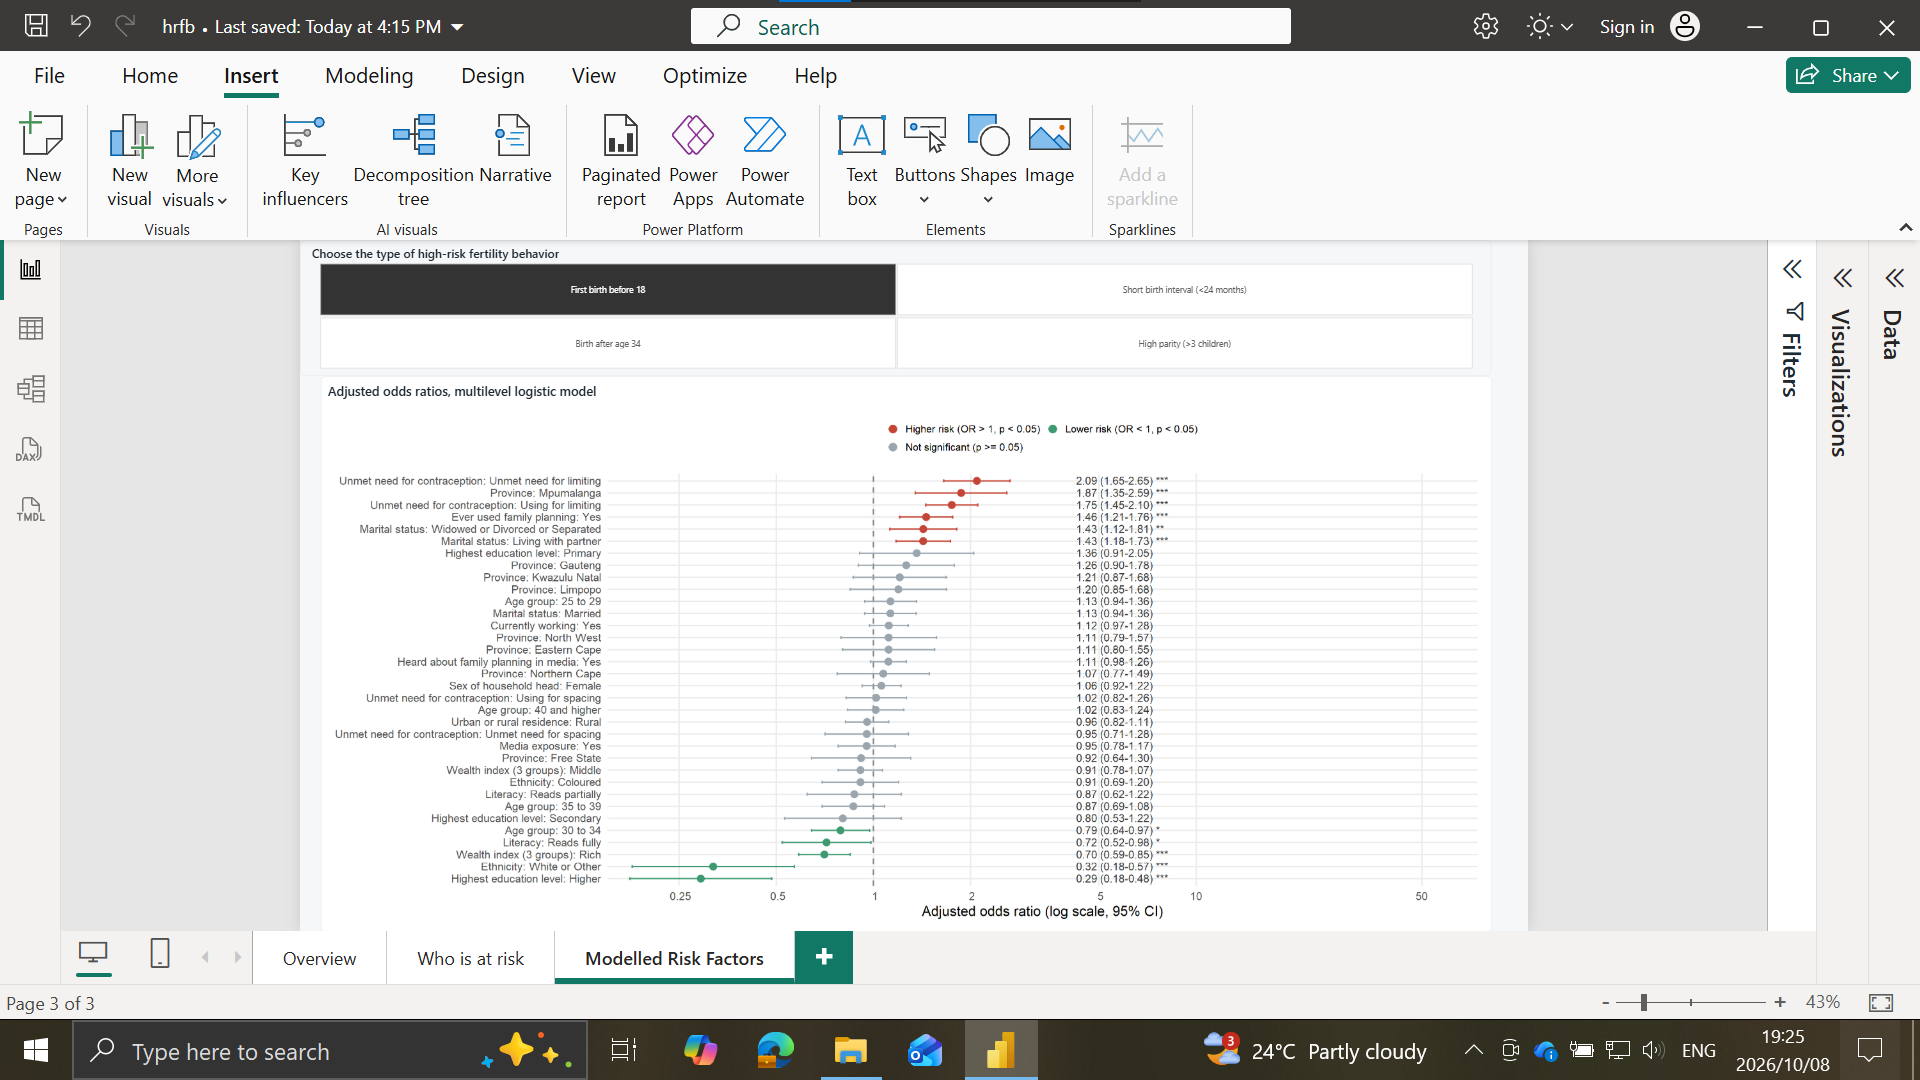

The page's visual inventory and layout, read from the dashboard file:
{"tool":"powerbi","page":{"name":"Modelled Risk Factors","canvas":[1920,1080],"ordinal":2},"visuals":[{"type":"slicer","fields":{"Values":["dim_outcome.outcome_label"]},"box":[0,0,1862,212],"z":0},{"type":"scriptVisual","title":"Adjusted odds ratios, multilevel logistic model","fields":{"Values":["fact_odds_ratios.term_label","fact_odds_ratios.odds_ratio","fact_odds_ratios.ci_lower","fact_odds_ratios.ci_upper","fact_odds_ratios.p_value"]},"box":[32.9,212.6,1830.1,868.2],"z":1001}]}

Visuals, with their boxes on the page's 1920x1080 design canvas (x1, y1, x2, y2). These are canvas units, not pixel positions in the 1920x1080 screenshot, which may show the page scaled, cropped or inside an application window:
slicer - dim_outcome.outcome_label: crop(0, 0, 1862, 212)
"Adjusted odds ratios, multilevel logistic model" scriptVisual: crop(33, 213, 1863, 1081)
